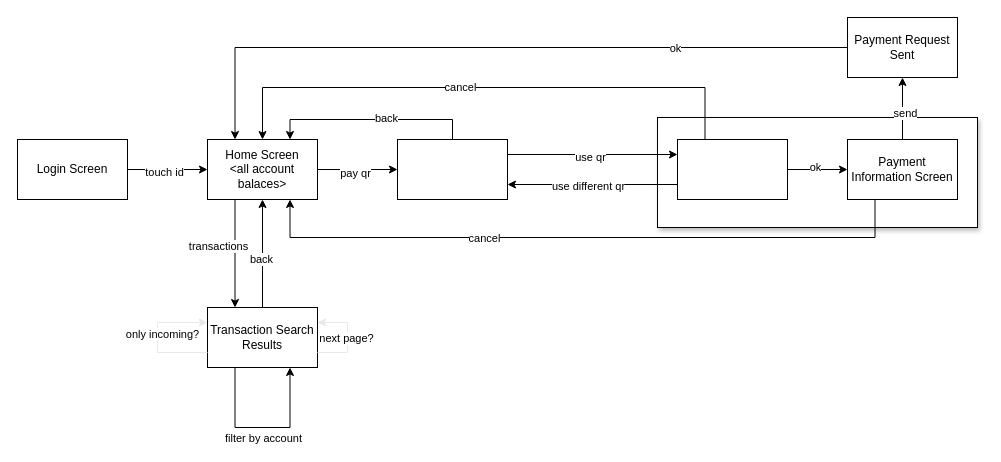
Some shapes in this 1001 by 462 pixel diagram are drawn without their labels. The shapes that lost their labels are listed below. From the top down, each one's centre as x and y in pixels, then its label:
the point at 452,169: QR detection Screen
the point at 732,169: select account <W/ aacount balances>
